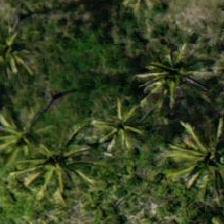Kelapa_Sawit: (128, 30, 218, 120), (67, 74, 157, 164), (10, 123, 100, 213), (0, 87, 74, 177), (164, 111, 223, 202)
